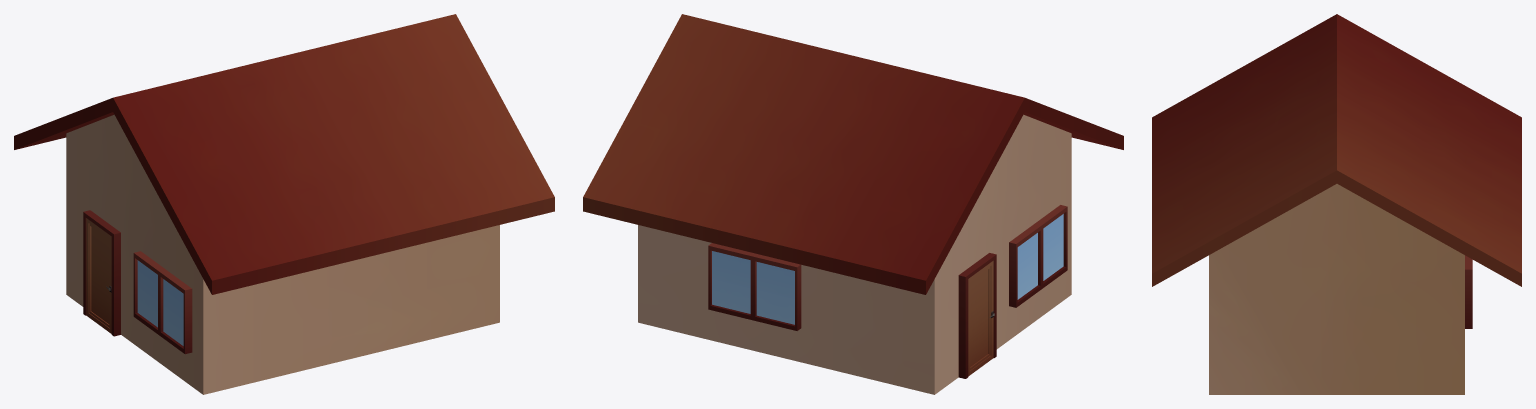
The model's file is SM_Pop_House1.fbx.
The picture shows the model from 3 angles, left to right: view 1: azimuth 30°, elevation 25°; view 2: azimuth 150°, elevation 25°; view 3: azimuth 270°, elevation 25°; orthographic projection. The views are drawn at different scales.
Parts seen in each view (by area): view 1: Pop_Mash_LOD0; view 2: Pop_Mash_LOD0; view 3: Pop_Mash_LOD0.
Boxes of the visible parts, left/top/right/bottom form: Pop_Mash_LOD0: left=14, top=14, right=554, bottom=394; Pop_Mash_LOD0: left=583, top=14, right=1123, bottom=394; Pop_Mash_LOD0: left=1152, top=14, right=1521, bottom=394.
Size of what is drawn, in the model's own units: 5.78 by 4.07 by 5.78.
